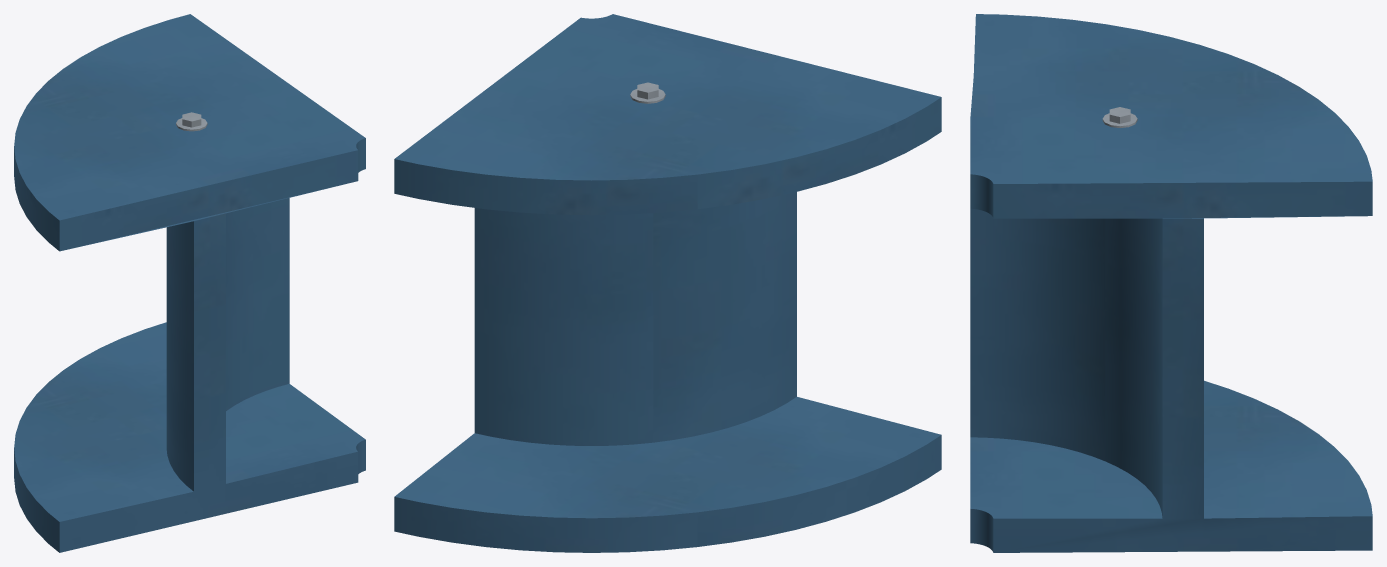
Rendered from ibeam_corner.glb.
The picture shows the model from 3 angles, left to right: view 1: azimuth 30°, elevation 25°; view 2: azimuth 150°, elevation 25°; view 3: azimuth 270°, elevation 25°; orthographic projection. The views are drawn at different scales.
Parts seen in each view (by area): view 1: Body.003; view 2: Body.003; view 3: Body.003.
Part boxes in pixels (x1,y1,x2,y2): Body.003: (14, 14, 365, 552); Body.003: (394, 14, 941, 552); Body.003: (970, 14, 1372, 552).
Size of the model in its own units: 0.2334 by 0.2472 by 0.2334.
2 materials, 2 textured.
